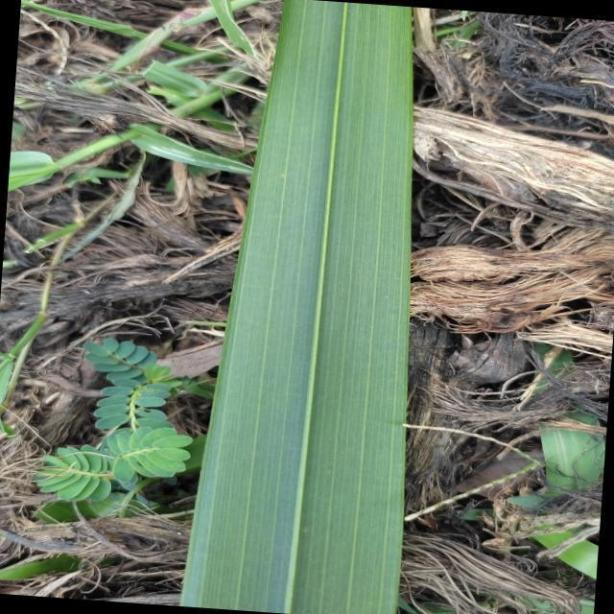Healthy: (182, 0, 411, 614)
